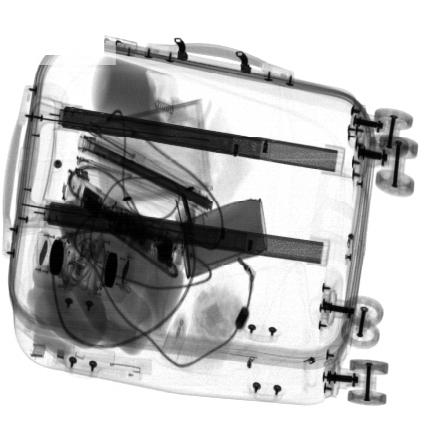Baton: (62, 167, 188, 268)
